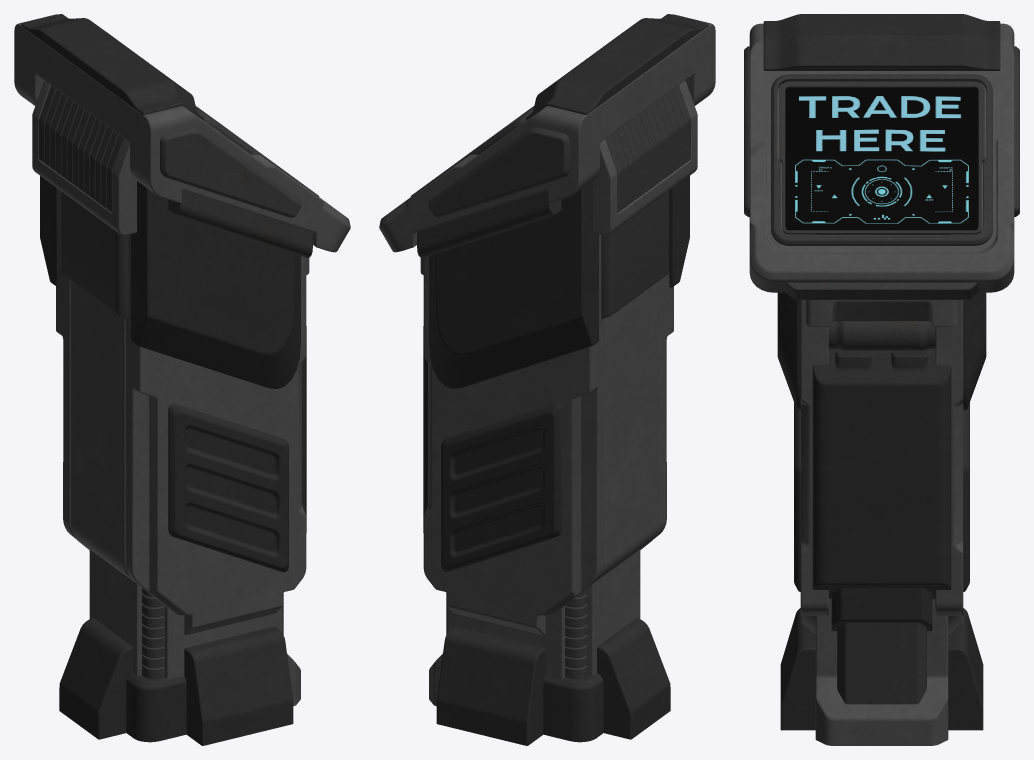
The model's file is console.glb.
3 renders of one model, left to right at view 1: azimuth 30°, elevation 25°; view 2: azimuth 150°, elevation 25°; view 3: azimuth 270°, elevation 25°, orthographic. The views are drawn at different scales.
Visible parts, largest first — view 1: Console; view 2: Console; view 3: Console.
Boxes of the visible parts, x1,y1,x2,y2 form: Console: (14,14,350,745); Console: (379,14,715,745); Console: (744,14,1019,745).
Bounding box in the file's own units: 0.4448 × 1.29 × 0.5017.
Materials: 4 (4 with a texture image).
